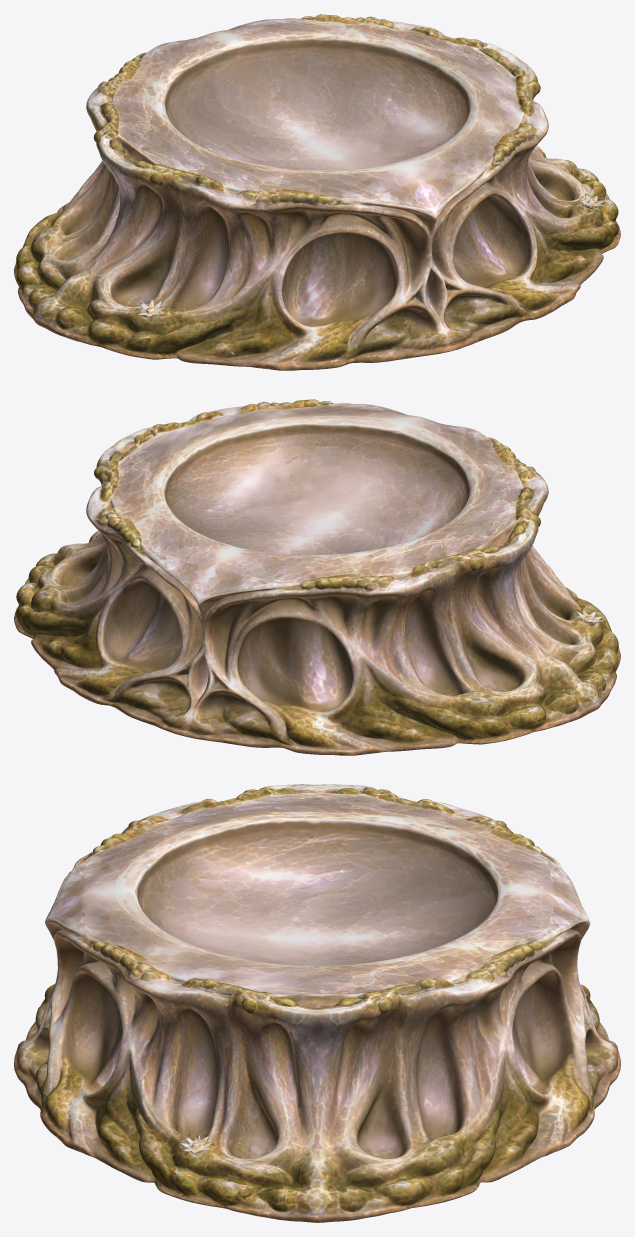
Rendered from altar-pedestal.glb.
3 views of the same model, one above another, from view 1: azimuth 30°, elevation 25°; view 2: azimuth 150°, elevation 25°; view 3: azimuth 270°, elevation 25° (orthographic). The views are drawn at different scales.
Parts seen in each view (by area): view 1: tripo_node_990a5b9c-325a-49c4-a969-c8a6c1598af1; view 2: tripo_node_990a5b9c-325a-49c4-a969-c8a6c1598af1; view 3: tripo_node_990a5b9c-325a-49c4-a969-c8a6c1598af1.
Part boxes in pixels (x1,y1,x2,y2): tripo_node_990a5b9c-325a-49c4-a969-c8a6c1598af1: (14, 14, 620, 370); tripo_node_990a5b9c-325a-49c4-a969-c8a6c1598af1: (14, 399, 620, 755); tripo_node_990a5b9c-325a-49c4-a969-c8a6c1598af1: (14, 784, 620, 1222).
Bounding box in the file's own units: 0.9796 × 0.2572 × 0.7975.
Materials: 1 (1 with a texture image).
